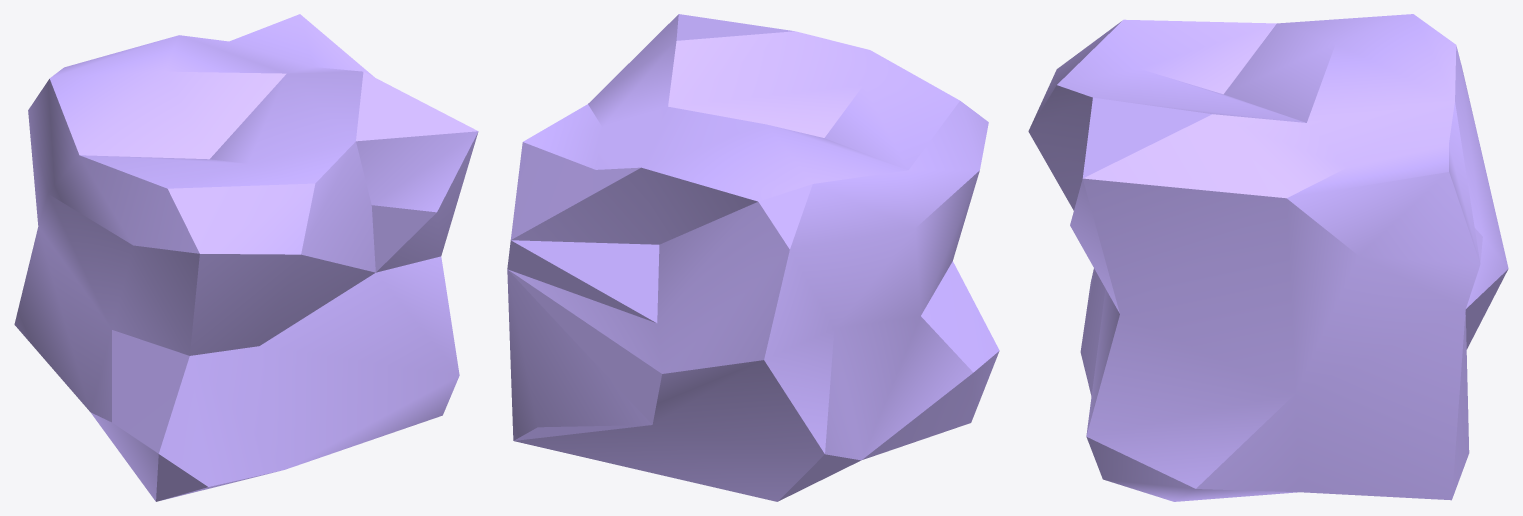
The model's file is cube-glob.glb.
3 views of the same model, side by side, from view 1: azimuth 30°, elevation 25°; view 2: azimuth 150°, elevation 25°; view 3: azimuth 270°, elevation 25° (orthographic). The views are drawn at different scales.
Parts seen in each view (by area): view 1: Cube; view 2: Cube; view 3: Cube.
Part boxes in pixels (bbox=[...]): Cube: bbox=[14, 14, 478, 501]; Cube: bbox=[507, 14, 999, 501]; Cube: bbox=[1028, 14, 1508, 501].
Size of the model in its own units: 1.28 by 1.19 by 1.37.
